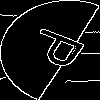P: (25, 25, 98, 75)
